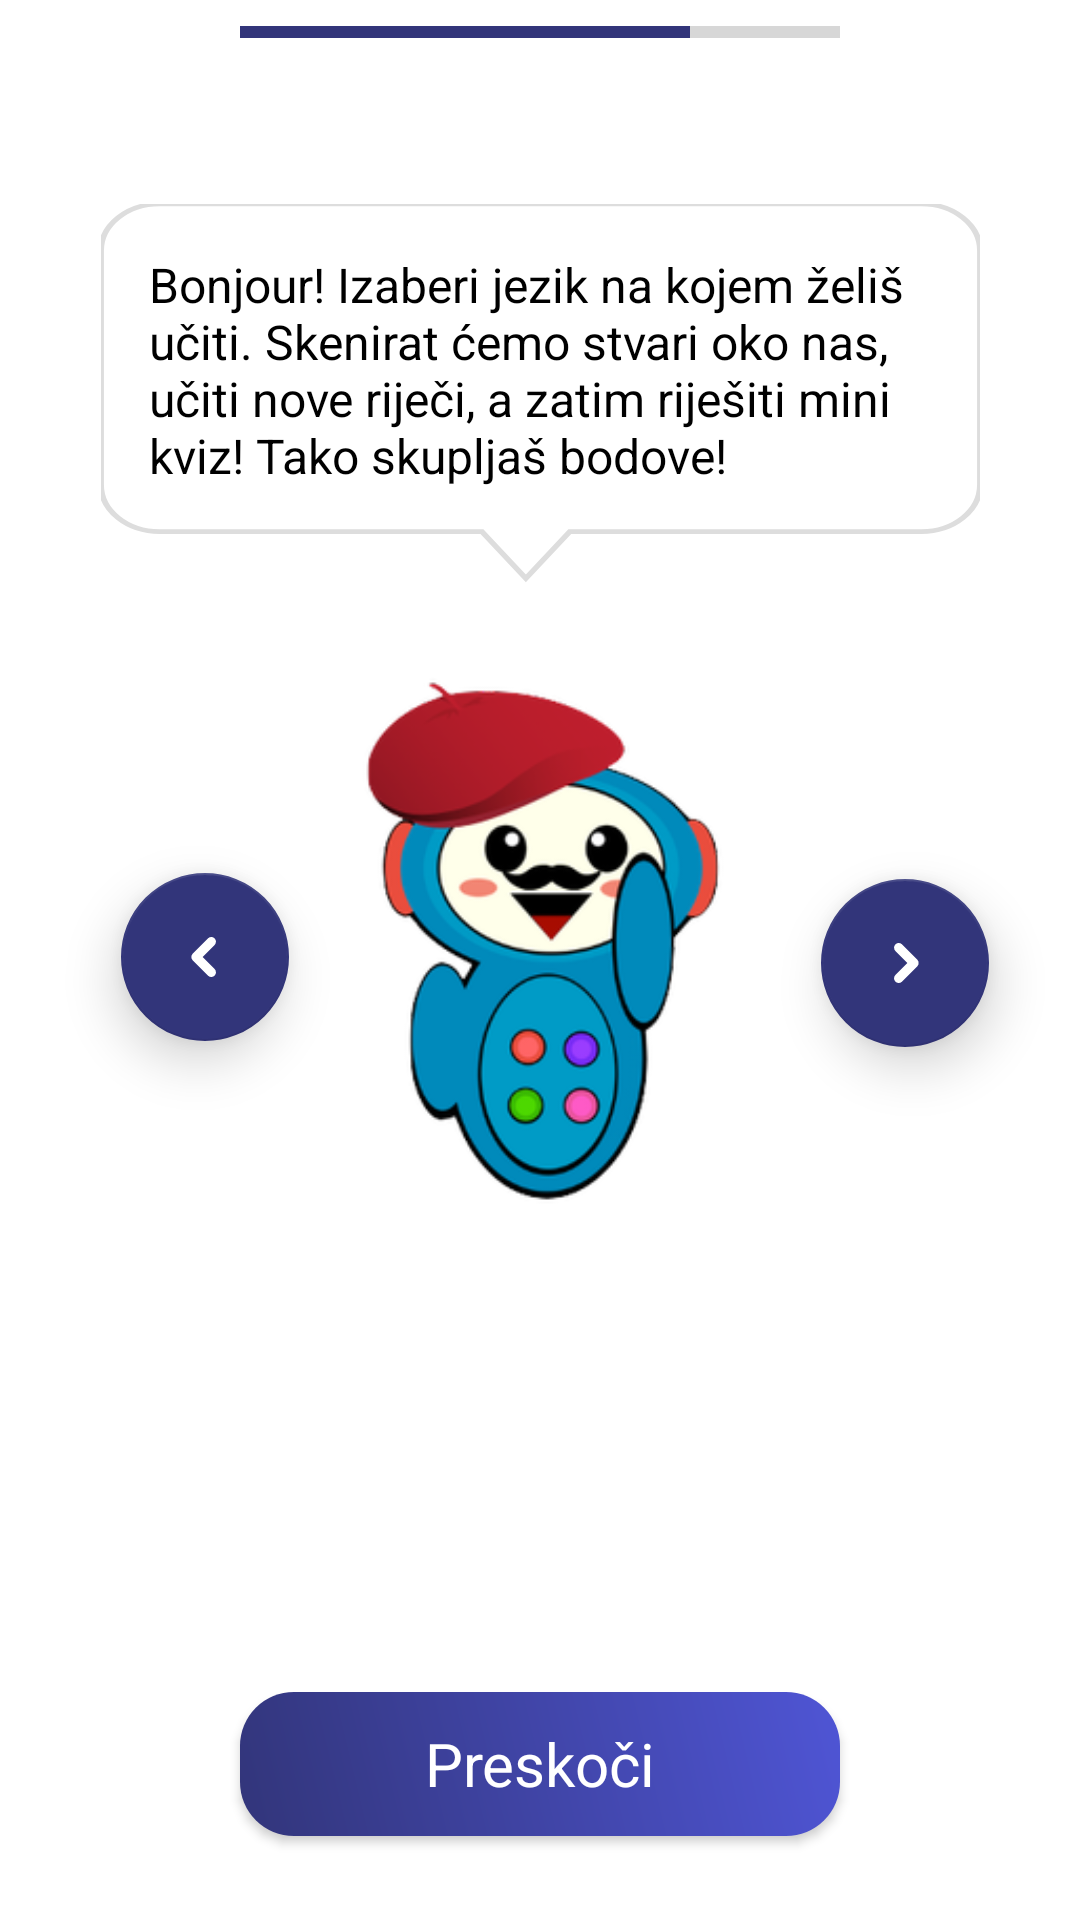

Icons on this 1080px x 1920px Android screen, each with its box as [x1,y1,x2,y2]:
back button: [121,873,289,1041]
Next arrow: [821,879,989,1047]
